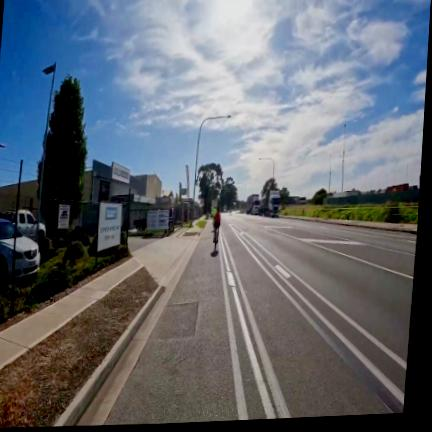Bike_Lane: (107, 240, 271, 425)
